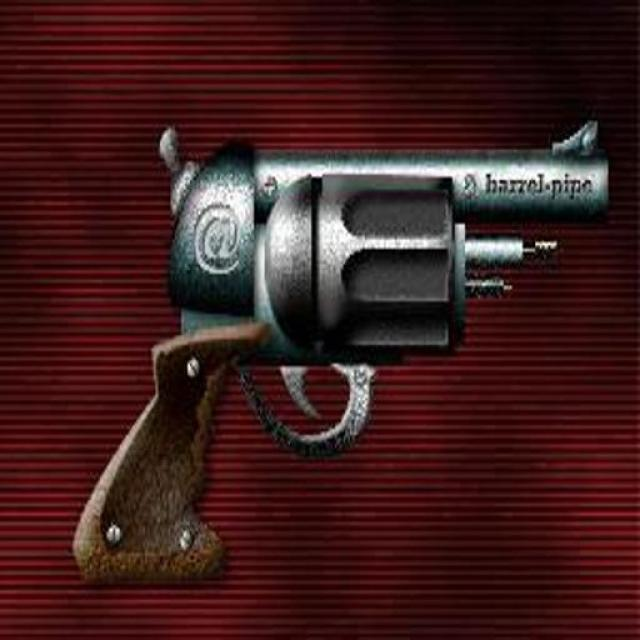pistol: (55, 124, 614, 593)
